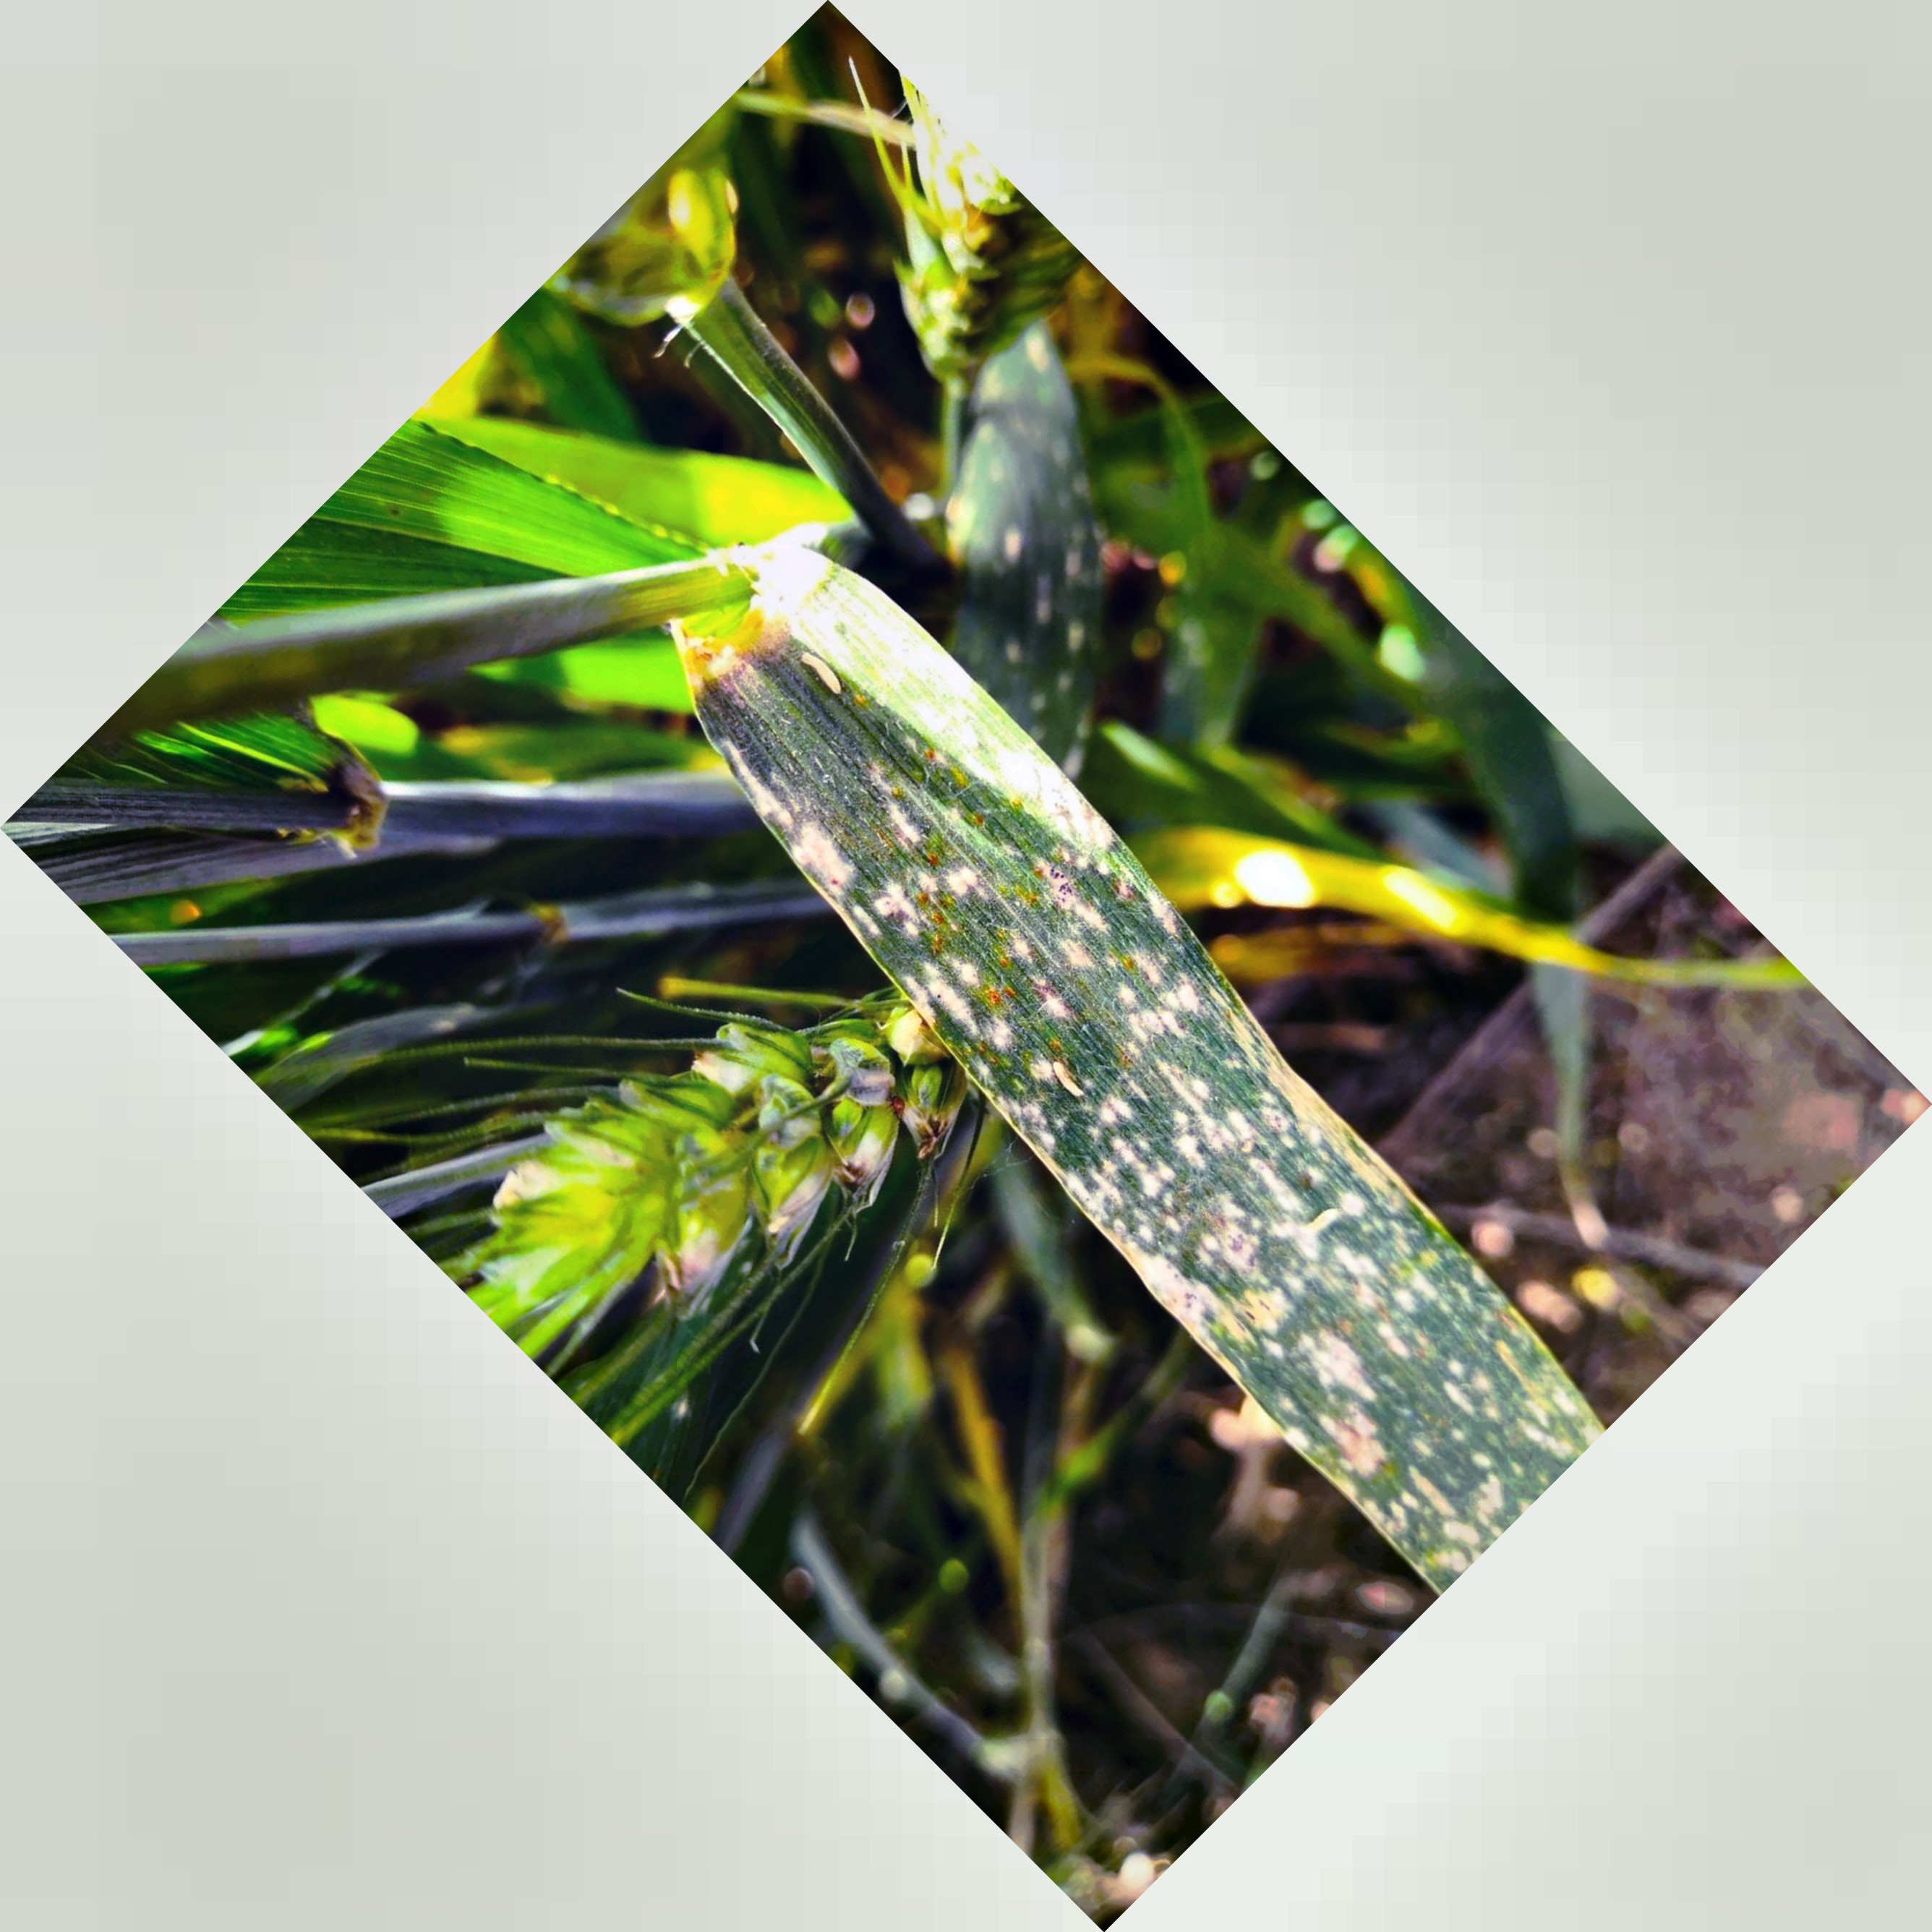Powdery Mildew: (872, 800, 1536, 1488)
